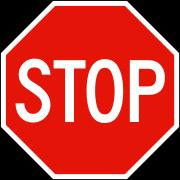Stop: (6, 12, 174, 165)
